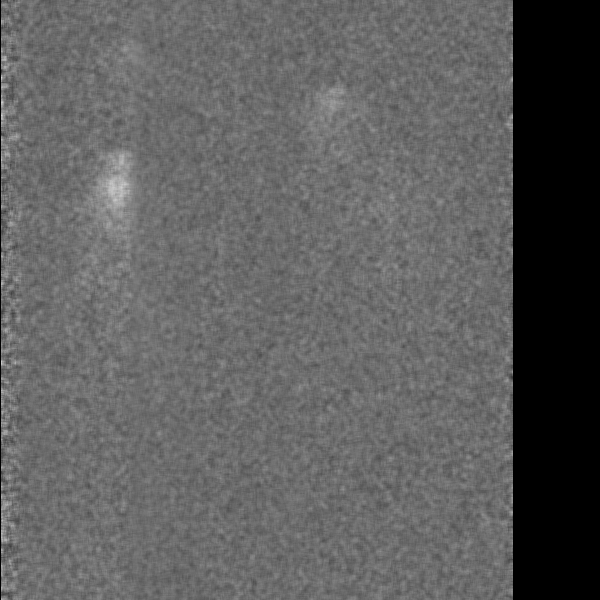spark: (80, 148, 134, 255), (311, 79, 351, 144)
